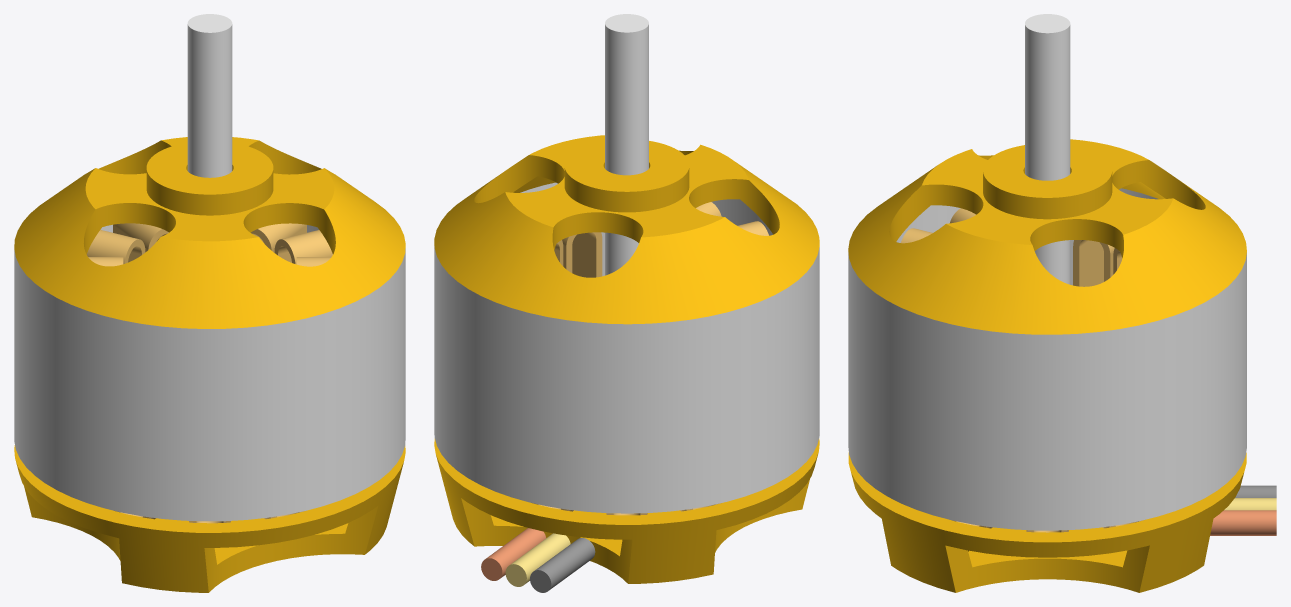
File: motor.gltf
3 views of the same model, side by side, from view 1: azimuth 30°, elevation 25°; view 2: azimuth 150°, elevation 25°; view 3: azimuth 270°, elevation 25° (orthographic). The views are drawn at different scales.
Parts seen in each view (by area): view 1: Middle, Top Cone, Base, Shaft, Part 10, Part 14, Part 11, Part 13; view 2: Middle, Top Cone, Base, Shaft, Wire B, Part 9, Wire A, Wire C; view 3: Middle, Top Cone, Base, Shaft, Part 15, Wire C, Wire A.
Boxes of the visible parts, box(x1,y1,x2,y2) form: Middle: box(14, 224, 405, 521); Top Cone: box(14, 137, 405, 328); Base: box(14, 445, 405, 592); Shaft: box(187, 14, 232, 177); Part 10: box(274, 230, 332, 264); Part 14: box(86, 230, 145, 263); Part 11: box(251, 223, 306, 252); Part 13: box(113, 223, 168, 252); Middle: box(434, 182, 819, 513); Top Cone: box(434, 135, 819, 324); Base: box(434, 438, 819, 583); Shaft: box(605, 14, 648, 275); Wire B: box(530, 538, 595, 592); Part 9: box(562, 232, 602, 277); Wire A: box(505, 533, 570, 586); Wire C: box(481, 528, 545, 580); Middle: box(848, 188, 1246, 530); Top Cone: box(848, 139, 1246, 334); Base: box(848, 452, 1246, 592); Shaft: box(1025, 14, 1070, 284); Part 15: box(1073, 240, 1114, 286); Wire C: box(1210, 510, 1276, 535); Wire A: box(1224, 498, 1276, 510).
Bounding box in the file's own units: 0.0279 × 0.0402 × 0.0299.
